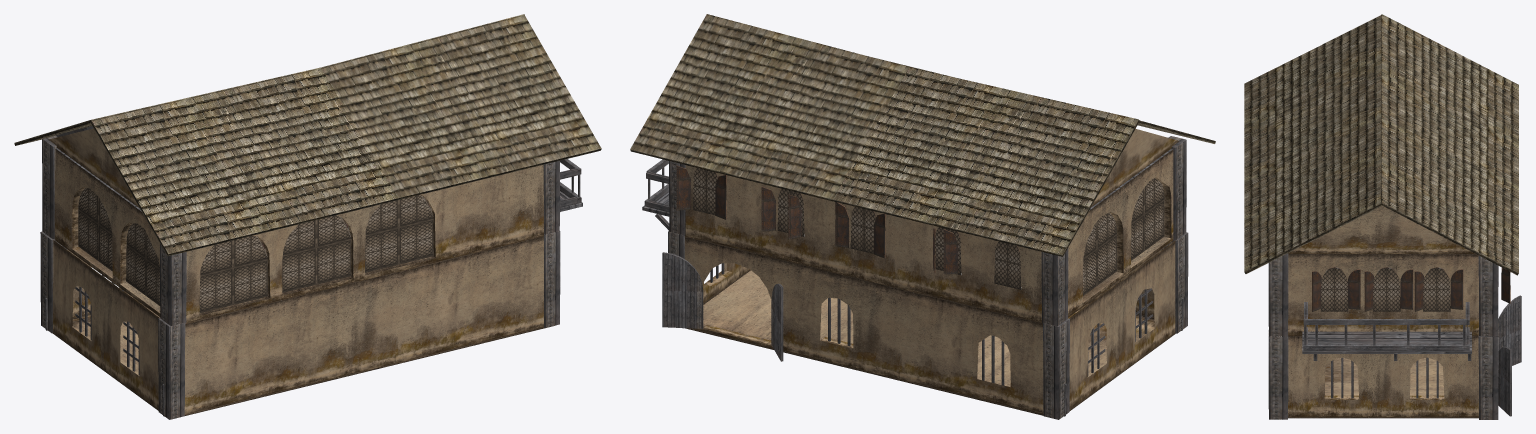
Rendered from tavern_storage_house_LOD1.dae.
3 renders of one model, left to right at view 1: azimuth 30°, elevation 25°; view 2: azimuth 150°, elevation 25°; view 3: azimuth 270°, elevation 25°, orthographic. The views are drawn at different scales.
Visible parts, largest first — view 1: DefaultLib2_roof_01, Material2, DefaultLib2_dorwindow_set, DefaultLib1_WoodPlanks_ornaments, DefaultLib2_WoodPlanks; view 2: DefaultLib2_roof_01, Material2, DefaultLib1_WoodPlanks_ornaments, DefaultLib2_dorwindow_set, DefaultLib2_WoodPlanks; view 3: DefaultLib2_roof_01, Material2, DefaultLib1_WoodPlanks_ornaments, DefaultLib2_dorwindow_set, DefaultLib2_WoodPlanks.
Part boxes in pixels (x1,y1,x2,y2): DefaultLib2_roof_01: [14, 14, 601, 256]; Material2: [48, 128, 554, 415]; DefaultLib2_dorwindow_set: [78, 187, 433, 312]; DefaultLib1_WoodPlanks_ornaments: [40, 135, 560, 419]; DefaultLib2_WoodPlanks: [45, 126, 582, 416]; DefaultLib2_roof_01: [630, 14, 1215, 256]; Material2: [685, 129, 1178, 415]; DefaultLib1_WoodPlanks_ornaments: [662, 136, 1188, 419]; DefaultLib2_dorwindow_set: [676, 165, 1164, 295]; DefaultLib2_WoodPlanks: [642, 149, 1183, 416]; DefaultLib2_roof_01: [1244, 14, 1518, 275]; Material2: [1288, 206, 1478, 418]; DefaultLib1_WoodPlanks_ornaments: [1268, 253, 1521, 419]; DefaultLib2_dorwindow_set: [1312, 267, 1510, 311]; DefaultLib2_WoodPlanks: [1302, 302, 1471, 360].
Size of the model in its own units: 26.58 by 14.65 by 16.01.
